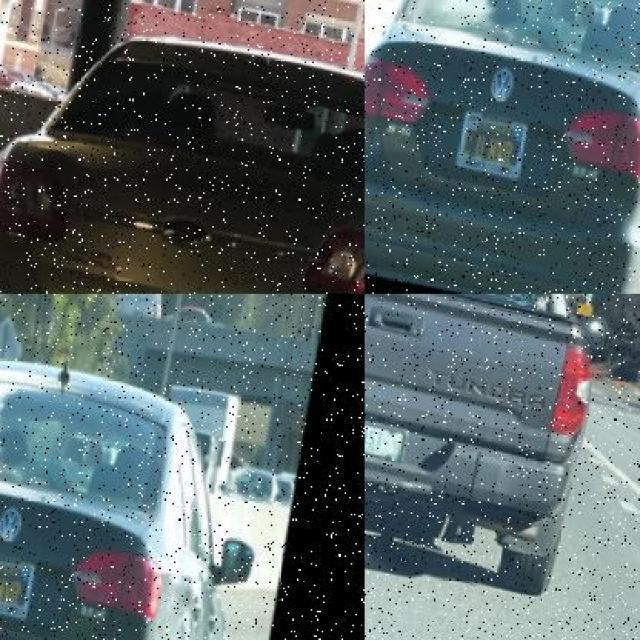LicensePlate: (451, 105, 527, 178), (0, 543, 37, 617), (364, 418, 406, 463)
